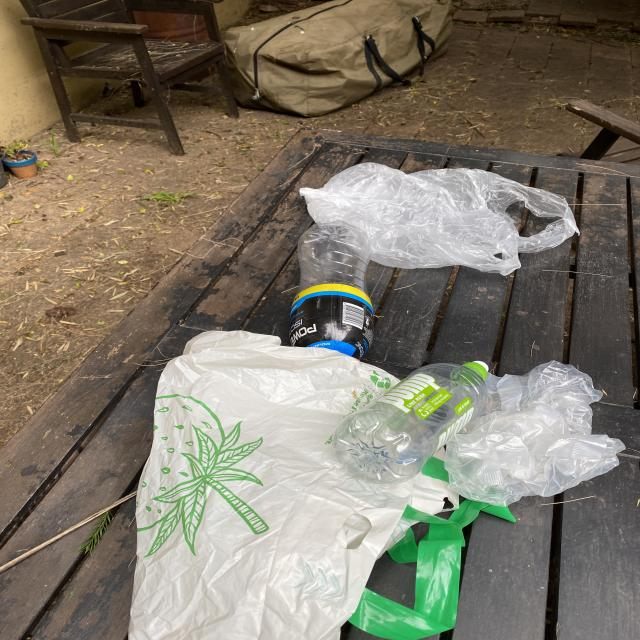bag: (129, 329, 465, 640), (299, 162, 582, 276), (444, 361, 626, 508)
bottle: (290, 221, 375, 360)
